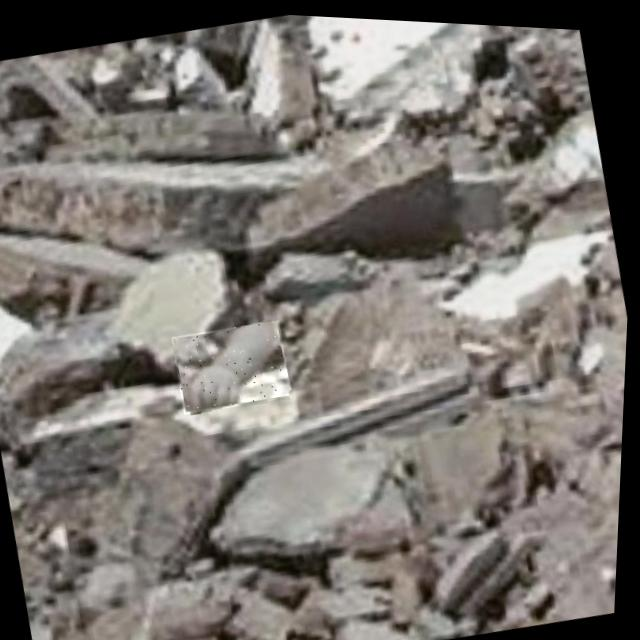Person in Rubble: (171, 312, 298, 416)
